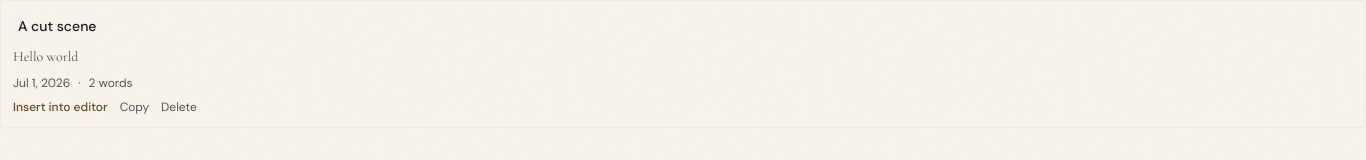
OuttakeCard › copies the plain text to the clipboard when Copy is clicked
Click the button "Copy" at (134, 107), box [120,99,149,115]
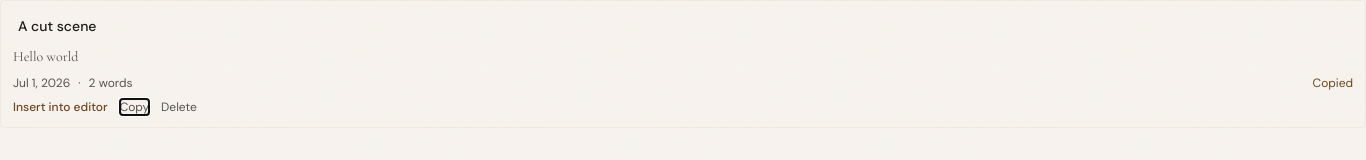
Check: the message reads "Copied", box [1312,75,1353,91]
